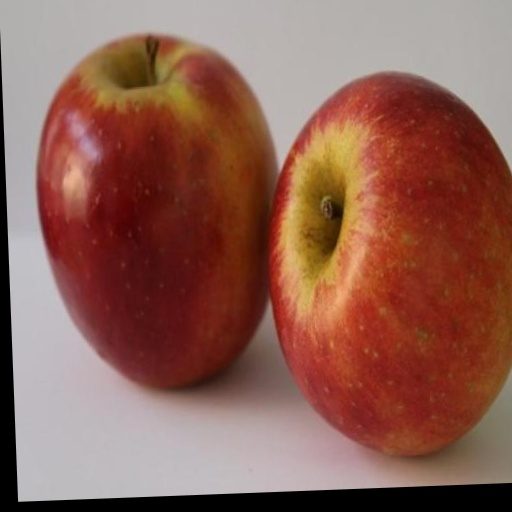fruit: (270, 73, 512, 454), (37, 37, 276, 386)
